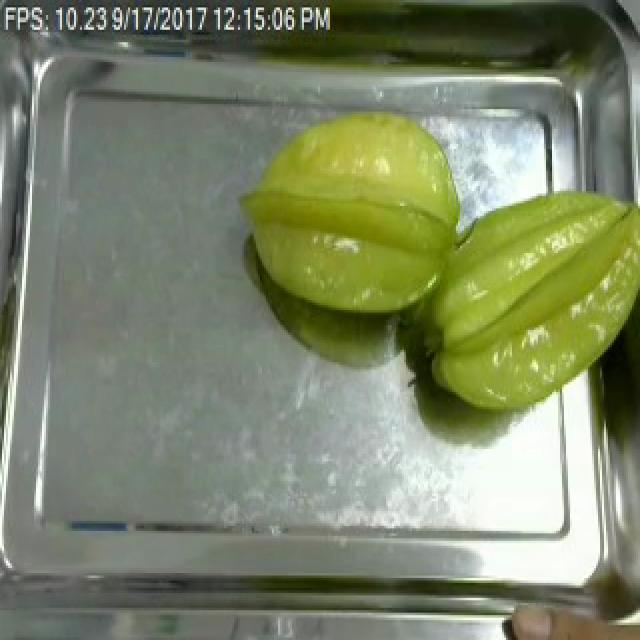fruit: (232, 99, 478, 330), (416, 176, 640, 422)
